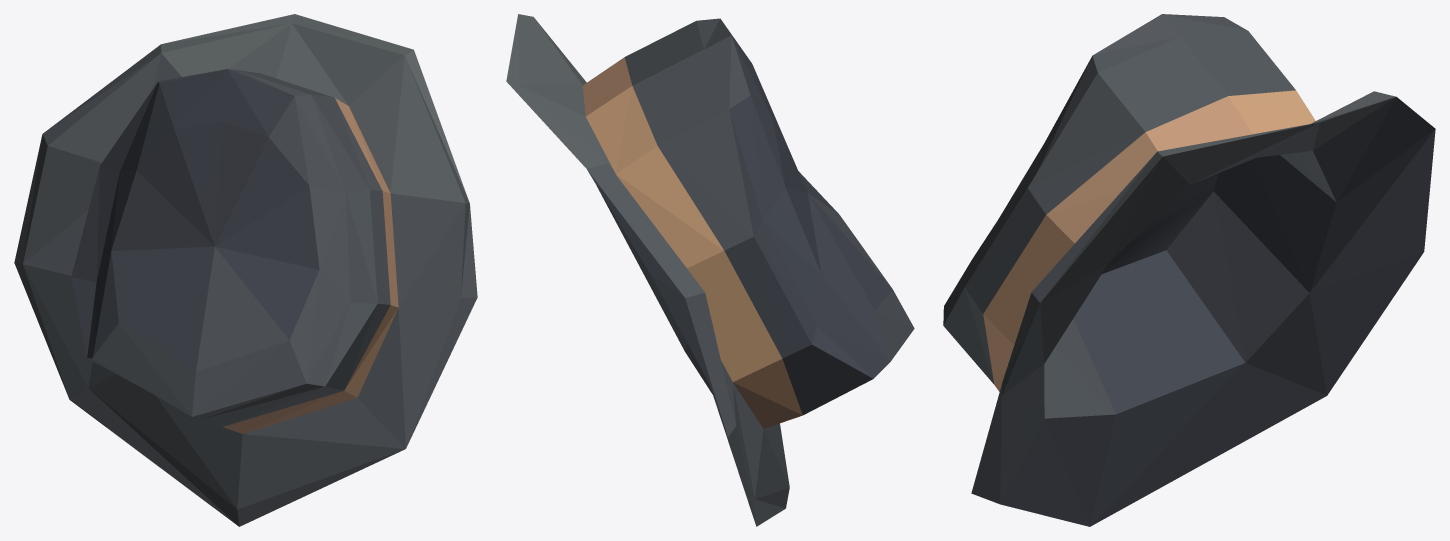
Rendered from hat.fbx.
3 renders of one model, left to right at view 1: azimuth 30°, elevation 25°; view 2: azimuth 150°, elevation 25°; view 3: azimuth 270°, elevation 25°, orthographic. The views are drawn at different scales.
Visible parts, largest first — view 1: hat; view 2: hat; view 3: hat.
Part boxes in pixels (bbox=[...]): hat: bbox=[14, 14, 477, 526]; hat: bbox=[506, 14, 914, 526]; hat: bbox=[943, 14, 1435, 526].
Bounding box in the file's own units: 29.27 × 36.68 × 31.26.
